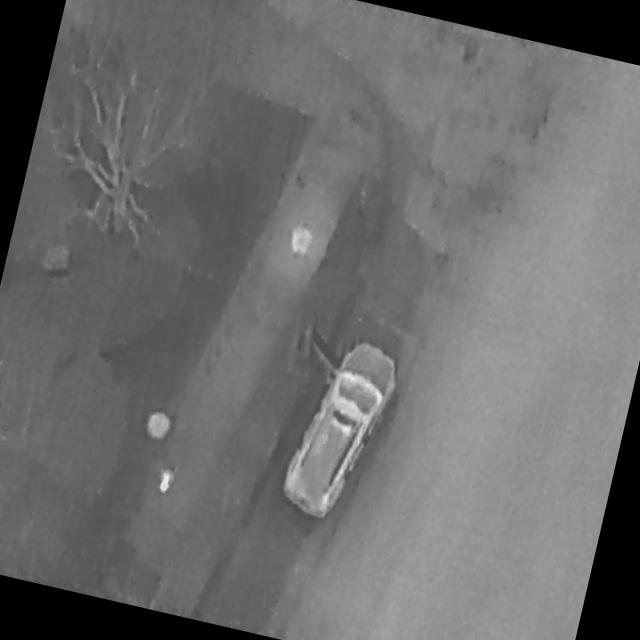person: (157, 464, 177, 496)
